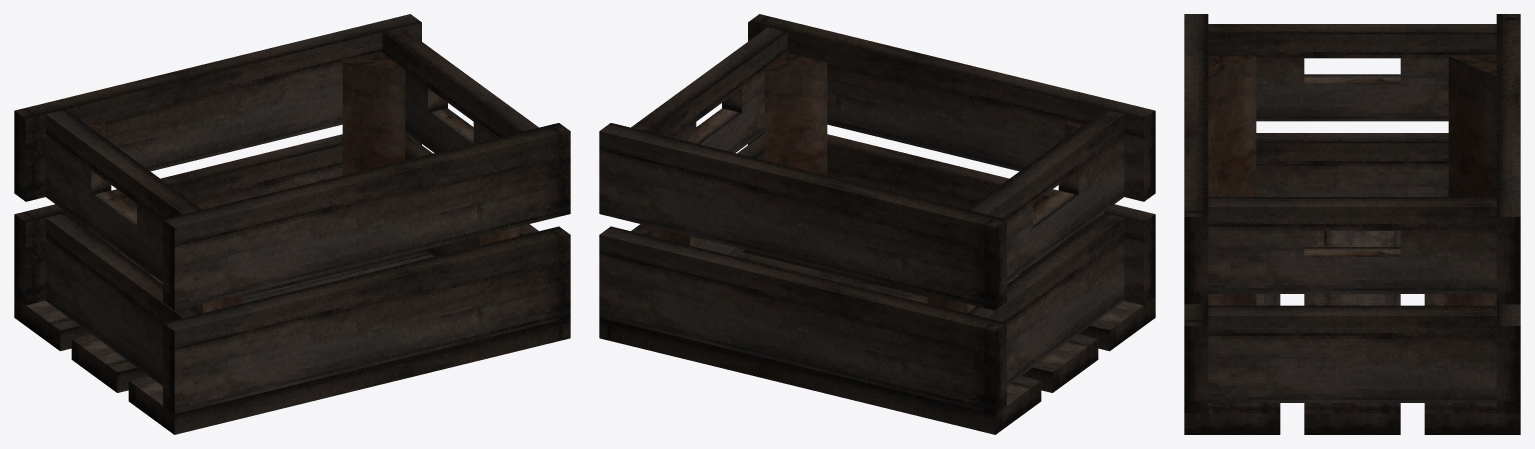
File: wooden_crate_1.glb
3 renders of one model, left to right at view 1: azimuth 30°, elevation 25°; view 2: azimuth 150°, elevation 25°; view 3: azimuth 270°, elevation 25°, orthographic. The views are drawn at different scales.
Visible parts, largest first — view 1: wooden_crate_1; view 2: wooden_crate_1; view 3: wooden_crate_1.
Boxes of the visible parts, left/top/right/bottom form: wooden_crate_1: left=14, top=14, right=570, bottom=434; wooden_crate_1: left=599, top=14, right=1155, bottom=434; wooden_crate_1: left=1184, top=14, right=1520, bottom=434.
Bounding box in the file's own units: 0.72 × 0.36 × 0.504.
1 material, 1 textured.
